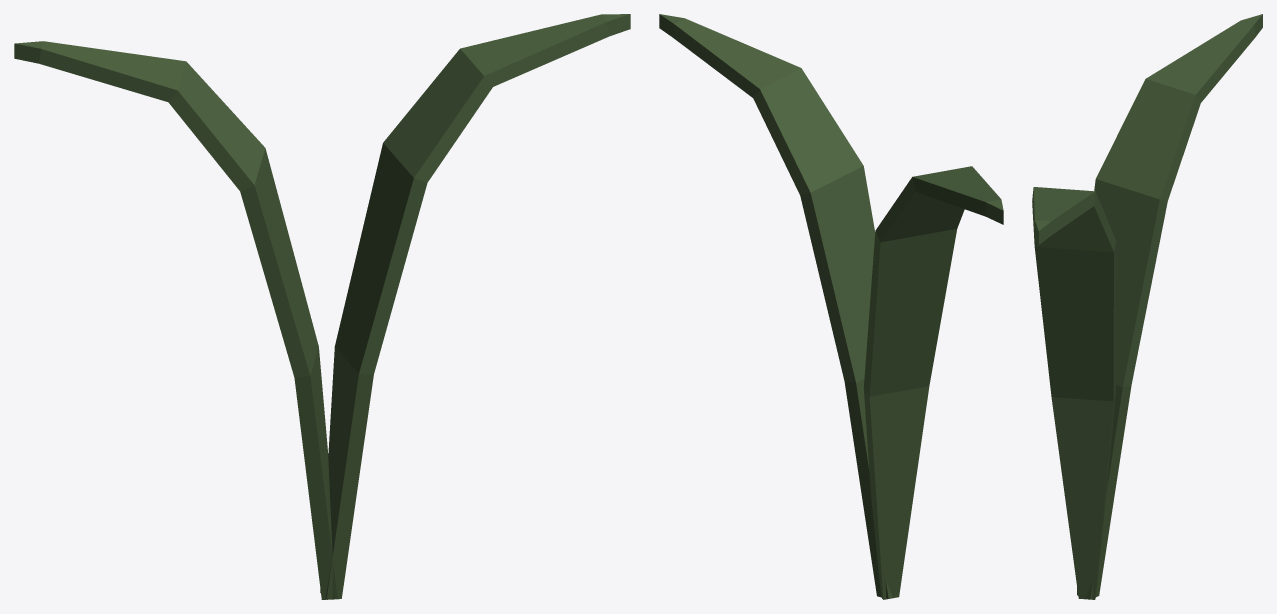
The model's file is apple_1.gltf.
The picture shows the model from 3 angles, left to right: view 1: azimuth 30°, elevation 25°; view 2: azimuth 150°, elevation 25°; view 3: azimuth 270°, elevation 25°; orthographic projection. The views are drawn at different scales.
Parts seen in each view (by area): view 1: apple_1; view 2: apple_1; view 3: apple_1.
Boxes of the visible parts, <box> form: apple_1: <box>14,14,630,599</box>; apple_1: <box>659,14,1003,599</box>; apple_1: <box>1032,14,1262,599</box>.
Size of the model in its own units: 0.2378 by 0.2474 by 0.1066.
Materials: 1 (1 with a texture image).
